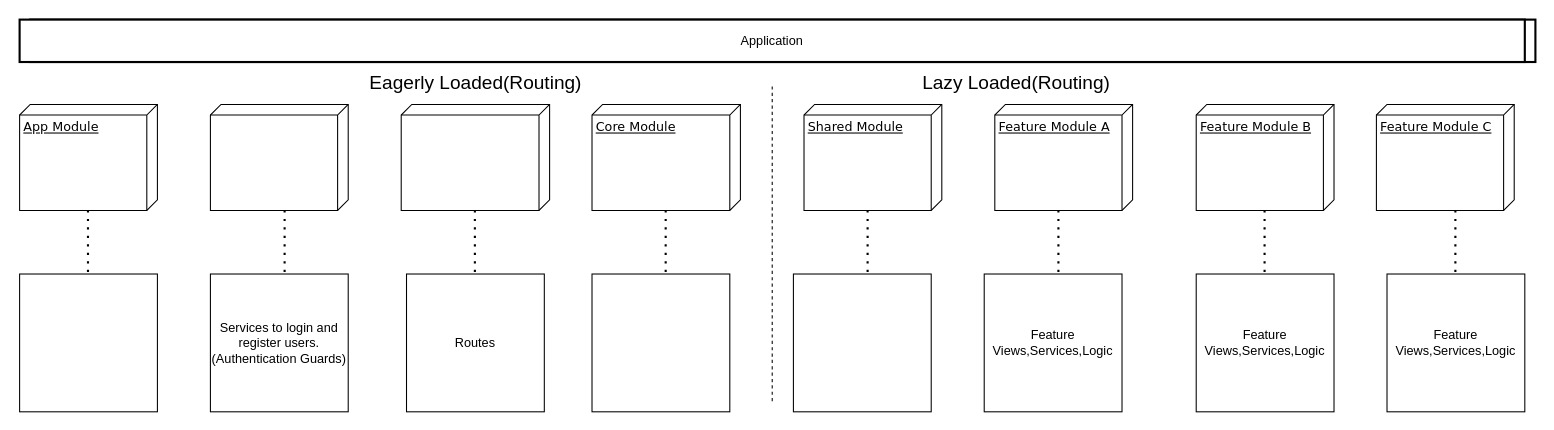
The diagram is 1554 pixels wide and 430 high, and some of its shapes have lost their labels. The shapes that lost their labels are listed below. From the top down, each one's centre as x and y in pixels, then its label:
(x=278, y=156): Auth Module
(x=475, y=156): App Routing Module
(x=88, y=342): Imports all Modules, Bootstraps application
(x=660, y=342): HTTP Services Error Handling Services Uitliy Services Storage Services
(x=861, y=342): Reuseable Components,Pipes, Widgets, 3rd party Libraries
